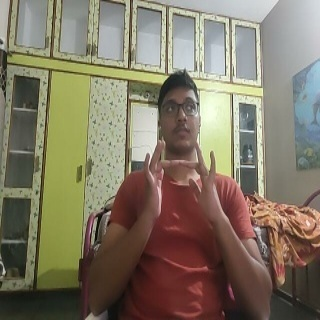Internet: (140, 138, 219, 231)
